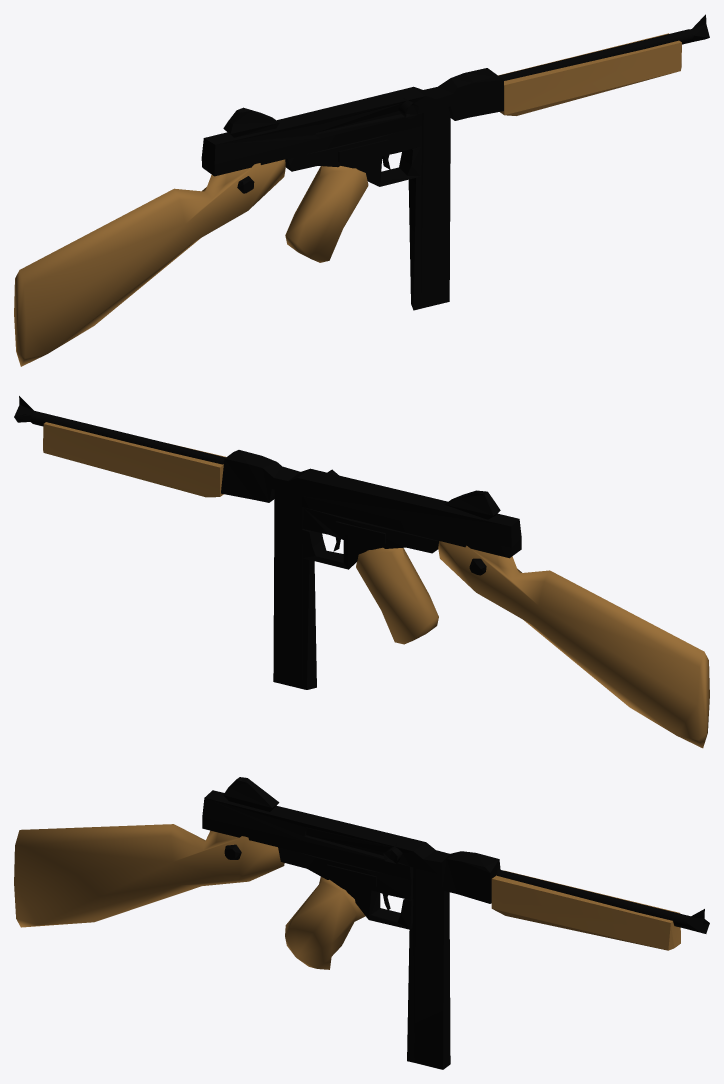
Rendered from thopmson.FBX.
3 renders of one model, top to bottom at view 1: azimuth 30°, elevation 25°; view 2: azimuth 150°, elevation 25°; view 3: azimuth 330°, elevation 25°, orthographic.
Visible parts, largest first — view 1: Box01; view 2: Box01; view 3: Box01.
Part boxes in pixels (box(x1,y1,x2,y2)): Box01: box(14, 14, 709, 366); Box01: box(14, 396, 709, 748); Box01: box(14, 777, 709, 1069).
Size of the model in its own units: 15.47 by 5.14 by 0.7791.
